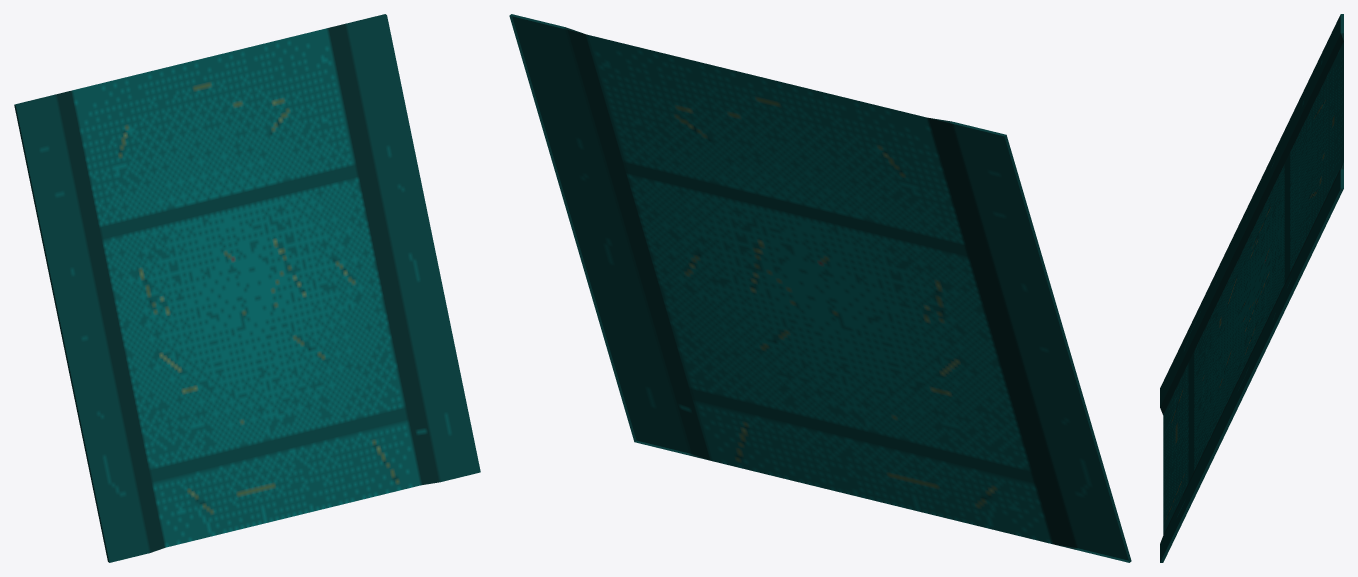
Rendered from med1_9d_ofs112_90.fbx.
3 views of the same model, side by side, from view 1: azimuth 30°, elevation 25°; view 2: azimuth 150°, elevation 25°; view 3: azimuth 270°, elevation 25° (orthographic). The views are drawn at different scales.
Visible parts, largest first — view 1: med1_9d_mesh_ofs112_90; view 2: med1_9d_mesh_ofs112_90; view 3: med1_9d_mesh_ofs112_90.
Boxes of the visible parts, x1,y1,x2,y2 form: med1_9d_mesh_ofs112_90: [14, 14, 480, 562]; med1_9d_mesh_ofs112_90: [509, 14, 1131, 562]; med1_9d_mesh_ofs112_90: [1160, 14, 1343, 562].
Size of the model in its own units: 256 by 256 by 114.
